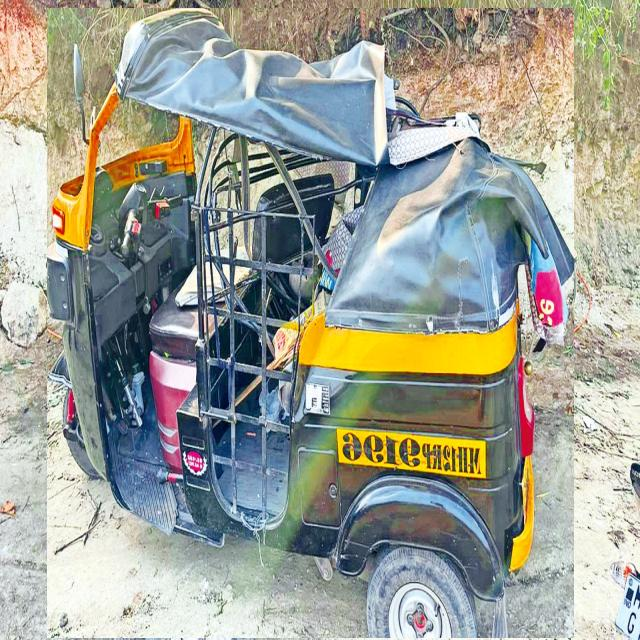accident: (48, 9, 574, 638)
